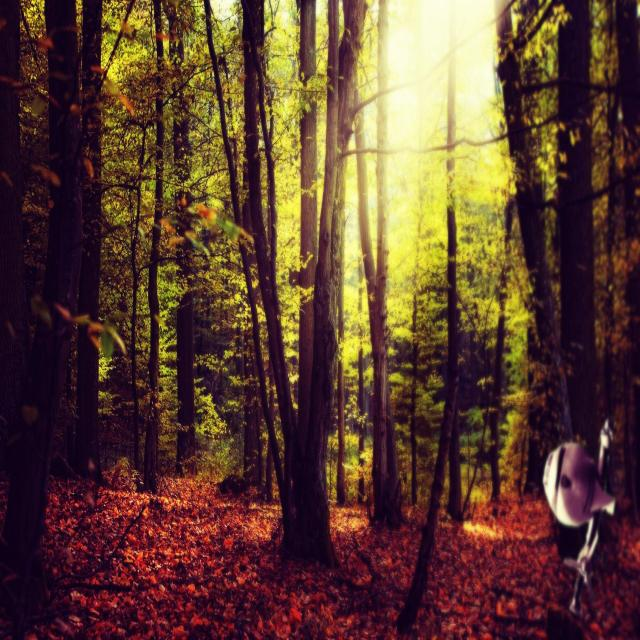airplane: (544, 420, 616, 612)
